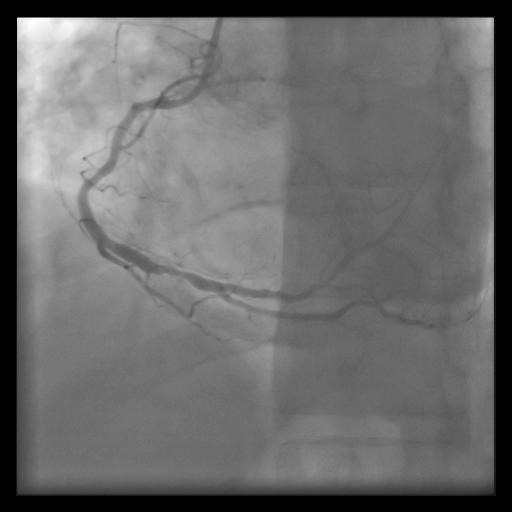Stenosis: (156, 259, 195, 289)
